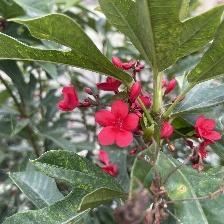jatropha: (96, 99, 141, 150)
